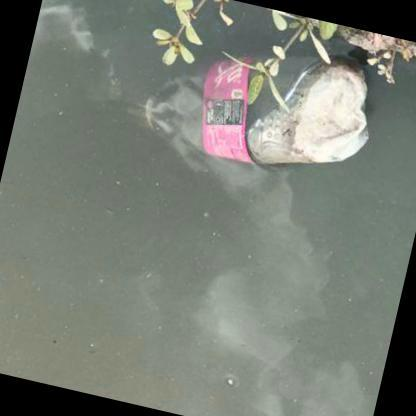Plastic: (141, 56, 369, 170)
